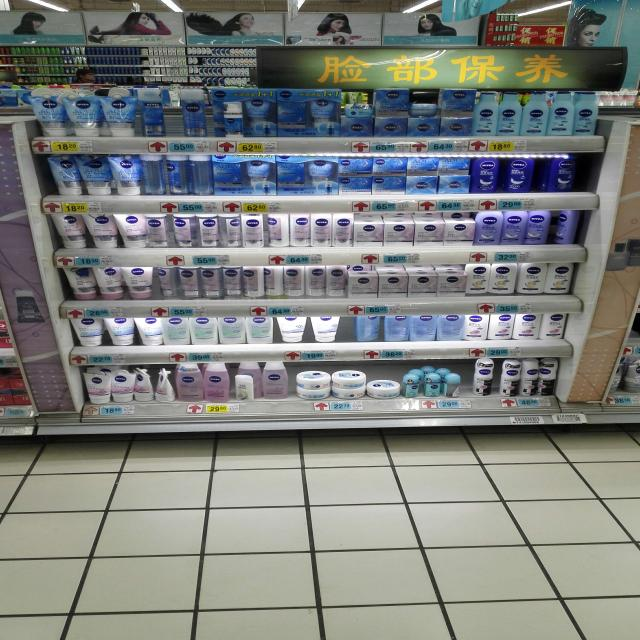empty: (573, 151, 603, 190), (340, 311, 357, 345), (460, 358, 472, 397)
